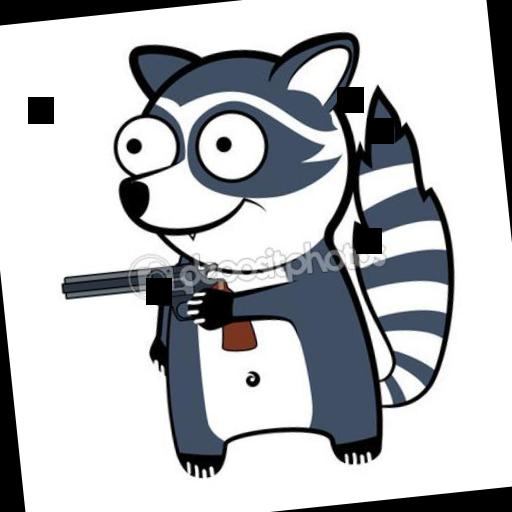Handgun: (54, 252, 258, 370)
